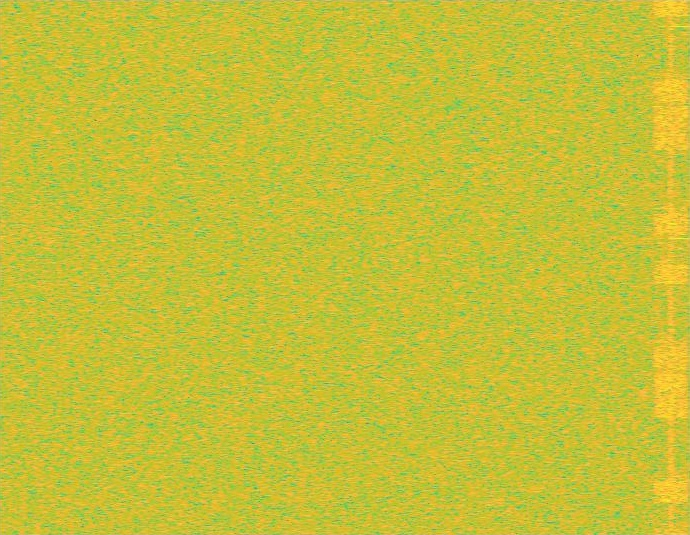DSSS: (669, 0, 673, 534)
LTE: (654, 0, 688, 534)
Radar: (674, 0, 688, 534)
